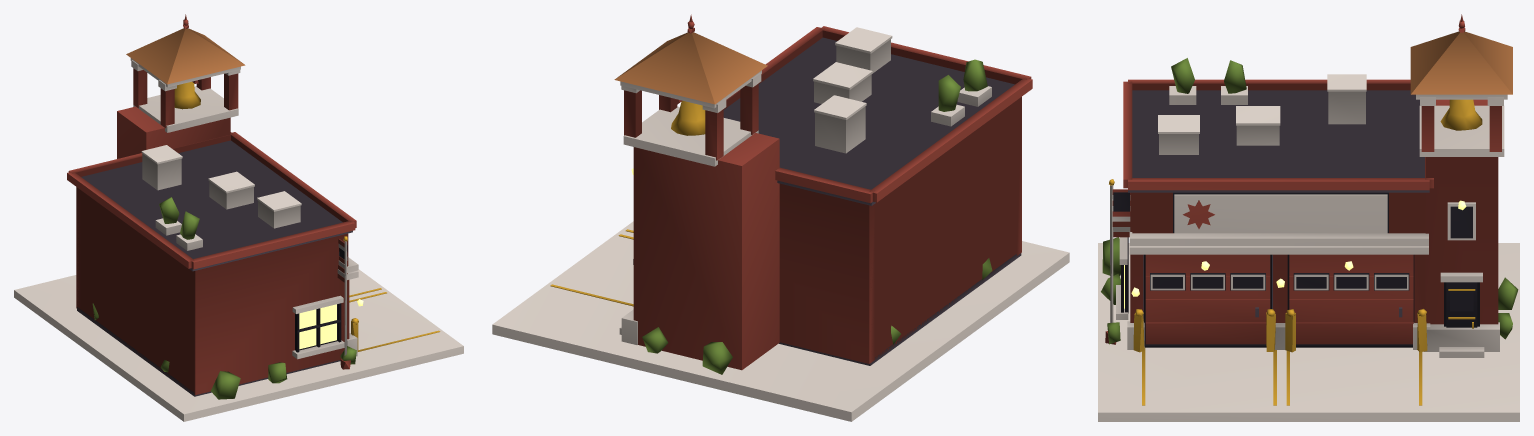
The picture shows the model from 3 angles, left to right: view 1: azimuth 30°, elevation 25°; view 2: azimuth 150°, elevation 25°; view 3: azimuth 270°, elevation 25°; orthographic projection. The views are drawn at different scales.
Visible parts, largest first — view 1: lod2_root_pal_brick, lod2_root_pal_picketWhite, lod2_roof_pal_asphalt, lod2_roof_pal_picketWhite, lod2_roof_pal_woodWarm, lod2_root_pal_grass, lod2_root_emi_windowGlow, lod2_root_pal_uiDark, lod2_roof_pal_grass, lod2_interior_pal_asphalt, lod2_bell_pal_schoolBusYellow, lod2_root_pal_schoolBusYellow; view 2: lod2_root_pal_brick, lod2_root_pal_picketWhite, lod2_roof_pal_asphalt, lod2_roof_pal_picketWhite, lod2_roof_pal_woodWarm, lod2_root_pal_grass, lod2_roof_pal_grass, lod2_interior_pal_asphalt, lod2_bell_pal_schoolBusYellow; view 3: lod2_root_pal_picketWhite, lod2_root_pal_brick, lod2_roof_pal_asphalt, lod2_door_bay_L_pal_brick, lod2_door_bay_R_pal_brick, lod2_roof_pal_picketWhite, lod2_roof_pal_woodWarm, lod2_root_pal_schoolBusYellow, lod2_root_pal_uiDark, lod2_door_bay_R_pal_uiDark, lod2_door_bay_L_pal_uiDark, lod2_root_pal_grass (+5 smaller).
Part boxes in pixels (bbox=[...]): lod2_root_pal_brick: bbox=[67, 68, 356, 395]; lod2_root_pal_picketWhite: bbox=[14, 60, 463, 421]; lod2_roof_pal_asphalt: bbox=[81, 140, 352, 271]; lod2_roof_pal_picketWhite: bbox=[130, 58, 301, 250]; lod2_roof_pal_woodWarm: bbox=[126, 28, 245, 84]; lod2_root_pal_grass: bbox=[92, 303, 356, 399]; lod2_root_emi_windowGlow: bbox=[299, 304, 336, 349]; lod2_root_pal_uiDark: bbox=[295, 245, 347, 352]; lod2_roof_pal_grass: bbox=[159, 197, 199, 239]; lod2_interior_pal_asphalt: bbox=[77, 307, 340, 396]; lod2_bell_pal_schoolBusYellow: bbox=[174, 81, 200, 109]; lod2_root_pal_schoolBusYellow: bbox=[343, 236, 440, 351]; lod2_root_pal_brick: bbox=[624, 26, 1032, 370]; lod2_root_pal_picketWhite: bbox=[492, 72, 1069, 421]; lod2_roof_pal_asphalt: bbox=[723, 37, 1014, 205]; lod2_roof_pal_picketWhite: bbox=[620, 27, 991, 153]; lod2_roof_pal_woodWarm: bbox=[614, 32, 767, 104]; lod2_root_pal_grass: bbox=[642, 258, 992, 374]; lod2_roof_pal_grass: bbox=[938, 59, 987, 111]; lod2_interior_pal_asphalt: bbox=[779, 253, 1021, 365]; lod2_bell_pal_schoolBusYellow: bbox=[671, 101, 705, 135]; lod2_root_pal_picketWhite: bbox=[1098, 97, 1519, 421]; lod2_root_pal_brick: bbox=[1105, 79, 1501, 344]; lod2_roof_pal_asphalt: bbox=[1128, 90, 1429, 192]; lod2_door_bay_L_pal_brick: bbox=[1145, 254, 1270, 344]; lod2_door_bay_R_pal_brick: bbox=[1289, 254, 1413, 344]; lod2_roof_pal_picketWhite: bbox=[1158, 74, 1507, 154]; lod2_roof_pal_woodWarm: bbox=[1410, 31, 1512, 94]; lod2_root_pal_schoolBusYellow: bbox=[1109, 179, 1427, 405]; lod2_root_pal_uiDark: bbox=[1113, 192, 1479, 326]; lod2_door_bay_R_pal_uiDark: bbox=[1287, 254, 1414, 347]; lod2_door_bay_L_pal_uiDark: bbox=[1144, 254, 1271, 347]; lod2_root_pal_grass: bbox=[1101, 237, 1518, 344].
Size of the model in its own units: 11.6 by 10.48 by 12.2.
